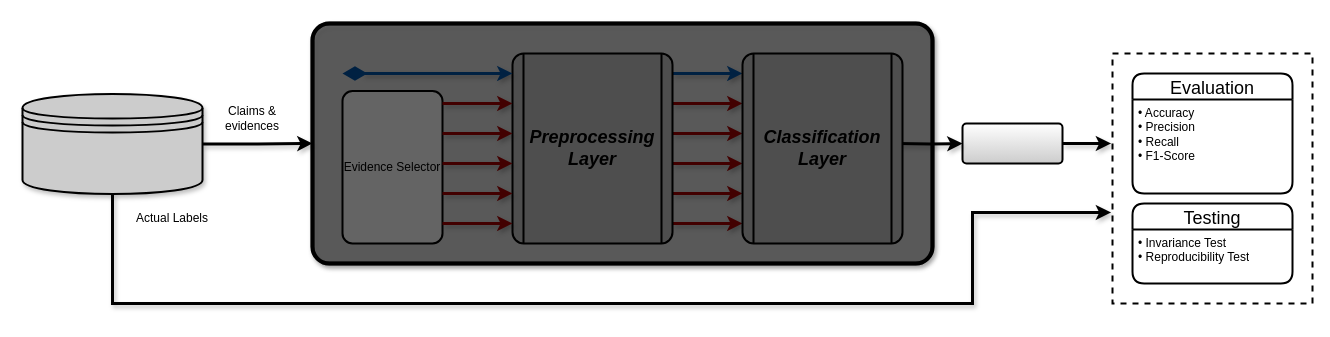
This 1330x337 diagram has some shape labels left out. The centre of each missing label's shape, as x and y in pixels:
"Predictions" belongs at [1012,143].
"Test Dataset with Evidences (CSV)" belongs at [113,145].
